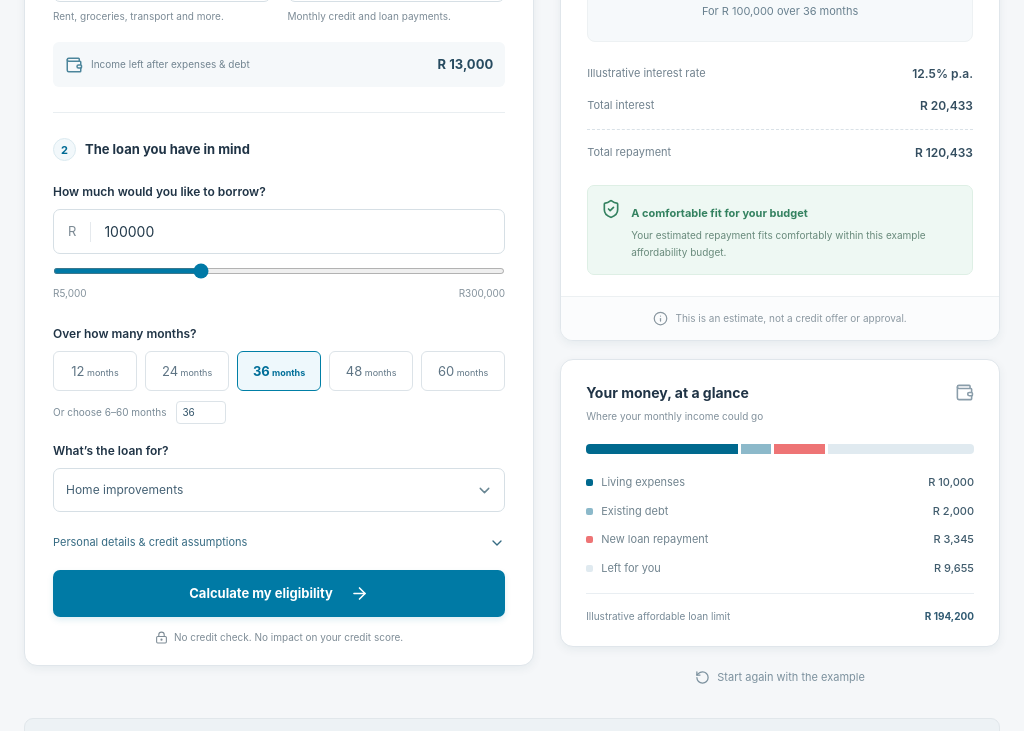
it: supports loan terms and expandable help
The width and height of the screenshot is (1024, 731).
(page scrolled)
Click the button "60 months" at (463, 371), box x1=421 y1=351 x2=505 y2=391
(page scrolled)
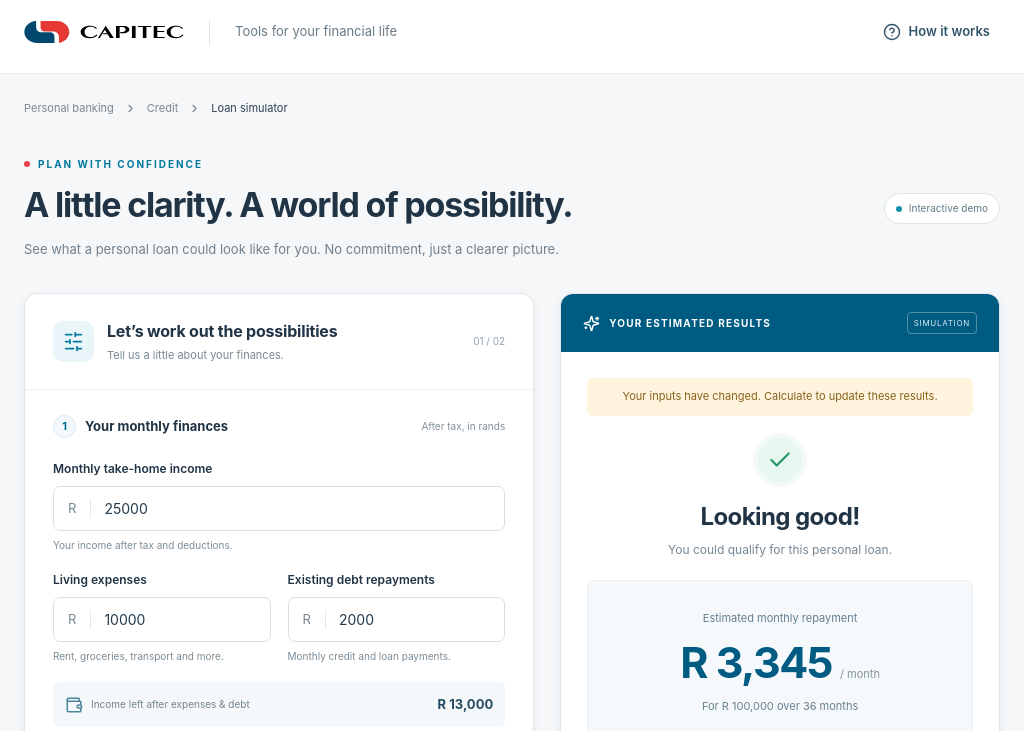
Click the button "How it works" at (936, 32), box x1=873 y1=12 x2=1000 y2=52
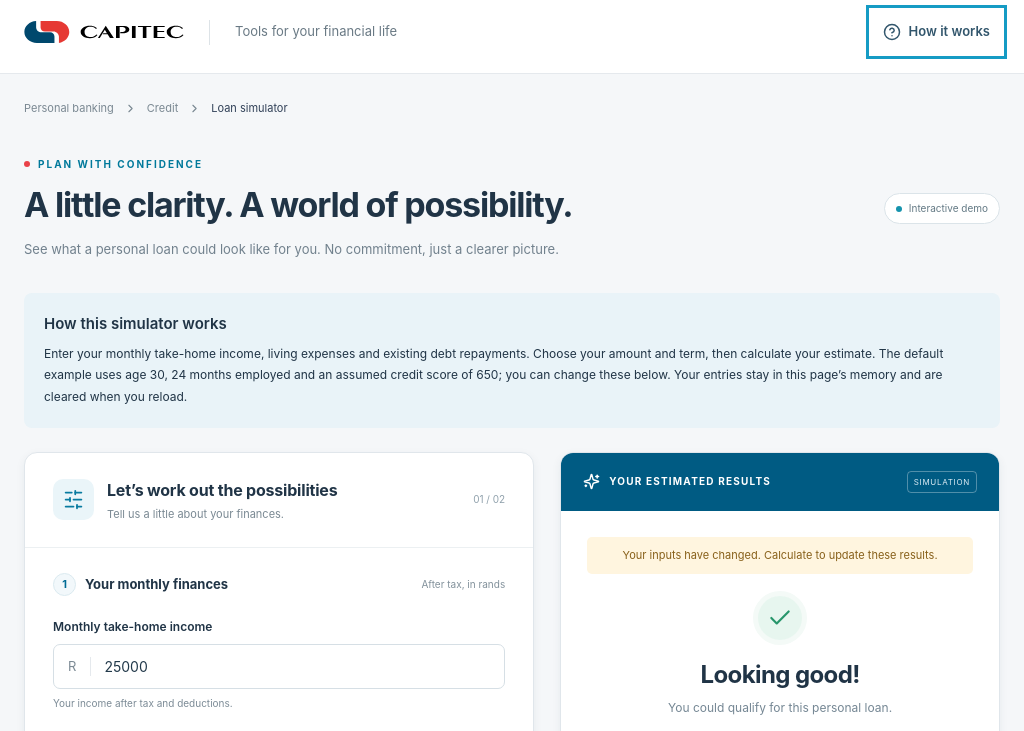
Result: the heading "How this simulator works" is shown at x1=44 y1=314 x2=227 y2=333
